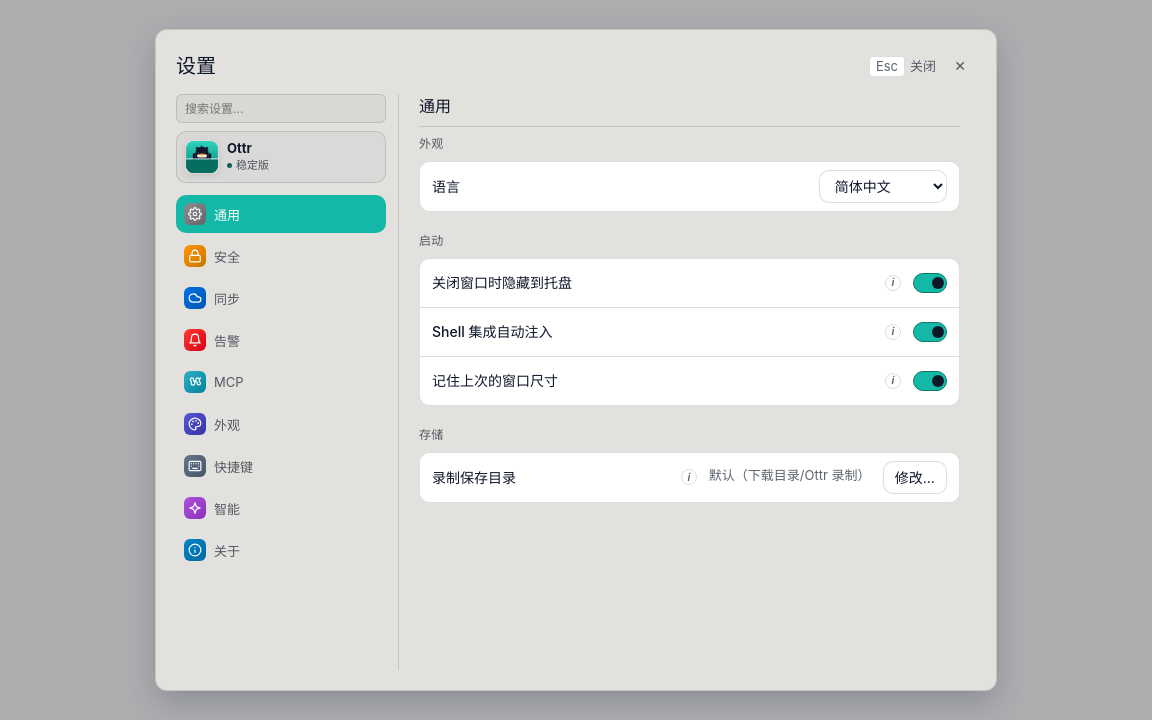
Test: 侧栏导航键盘上下键（2026-11-07 用户反馈） › 搜索隐藏的项被跳过：只剩「安全」可见时 ArrowDown 不落到隐藏的相邻项
Type "安全" into the search field with test id "settings-search-input" at {"x": 281, "y": 109}, box x1=176 y1=94 x2=386 y2=123
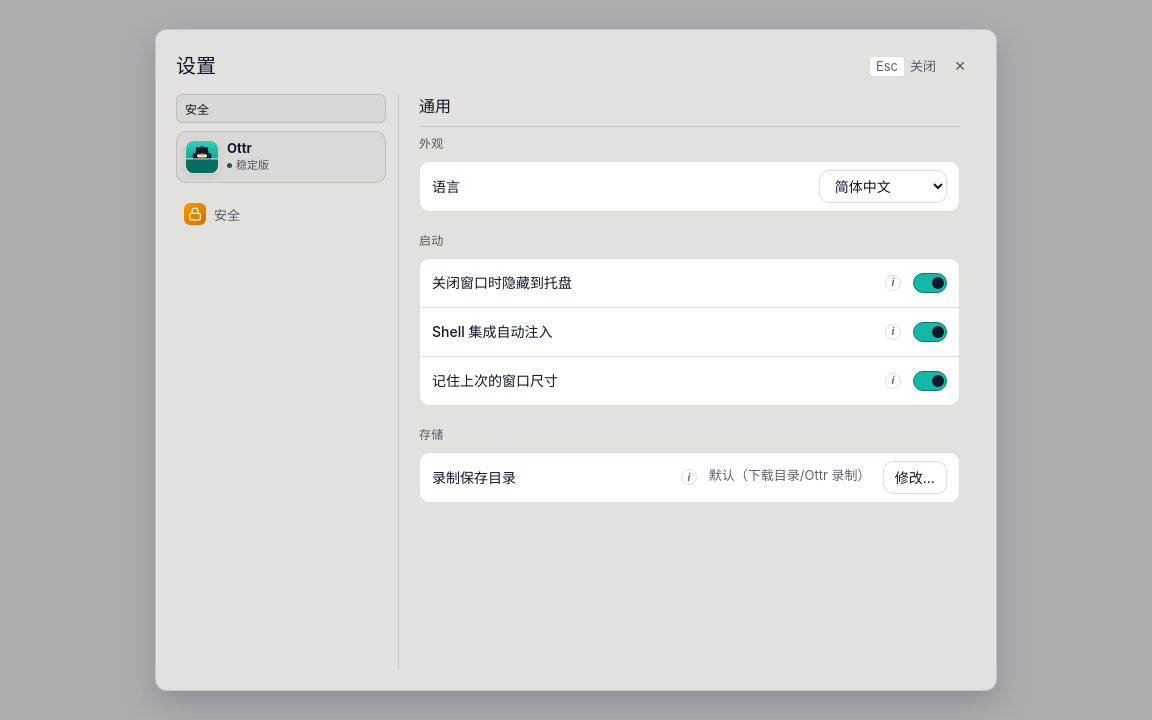
Press ArrowDown in the tab with test id "settings-nav-security", box x1=176 y1=195 x2=386 y2=233
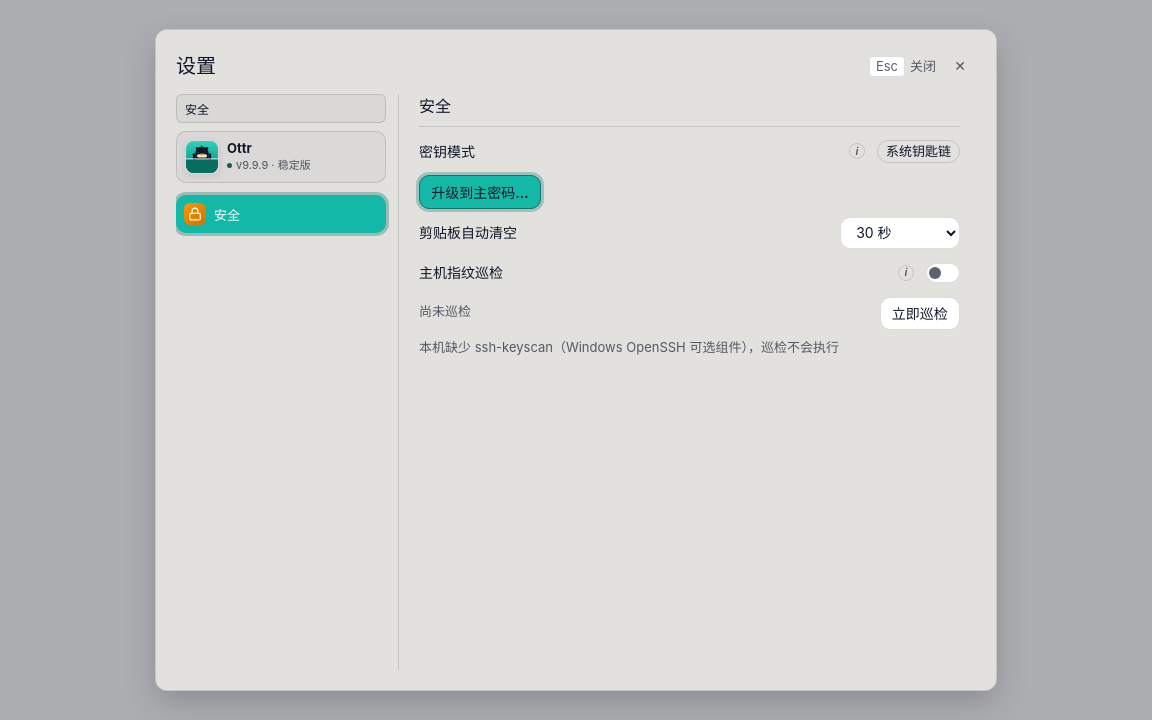
Expected: the tab with test id "settings-nav-security" is selected, x1=176 y1=195 x2=386 y2=233
